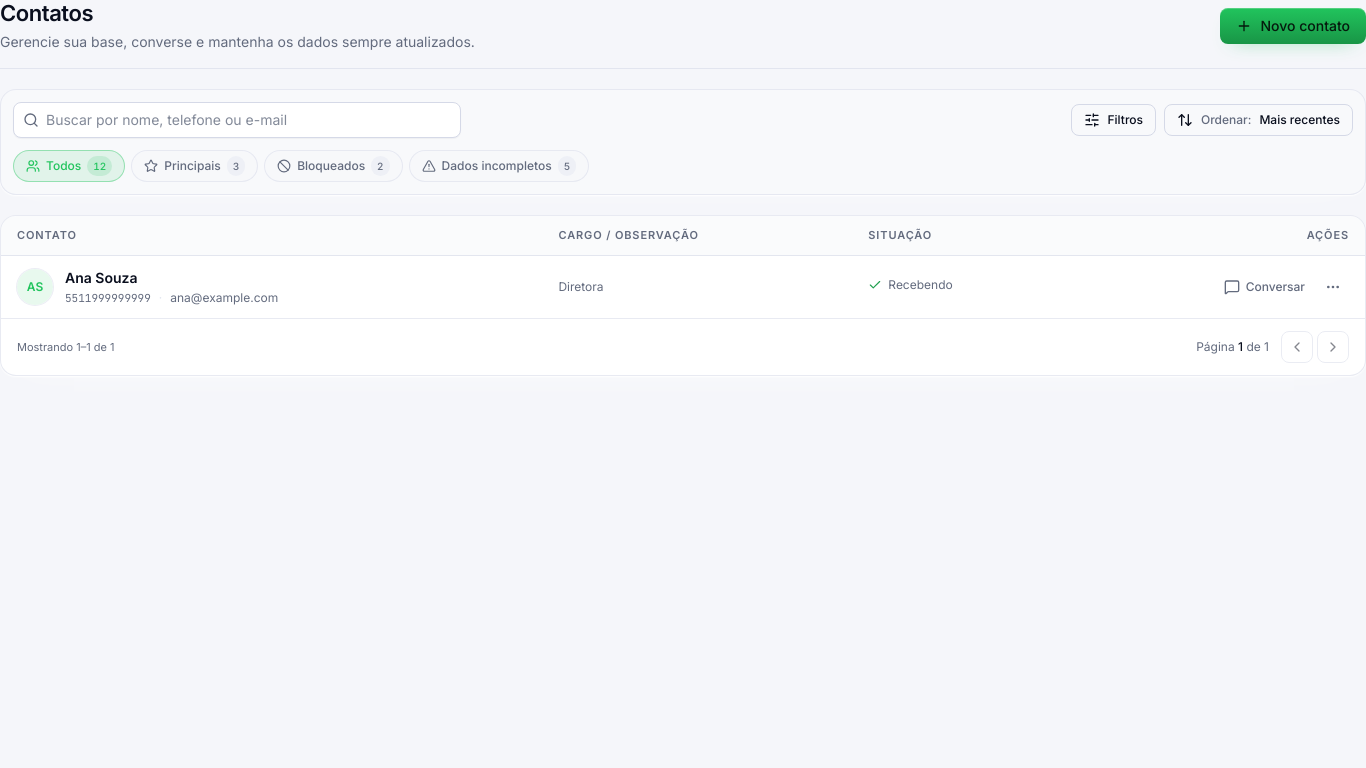
Scenario: ContactListPage details panel › opens the contact details when the row is clicked
Click the text "Ana Souza": (101, 278) [65,268,138,288]
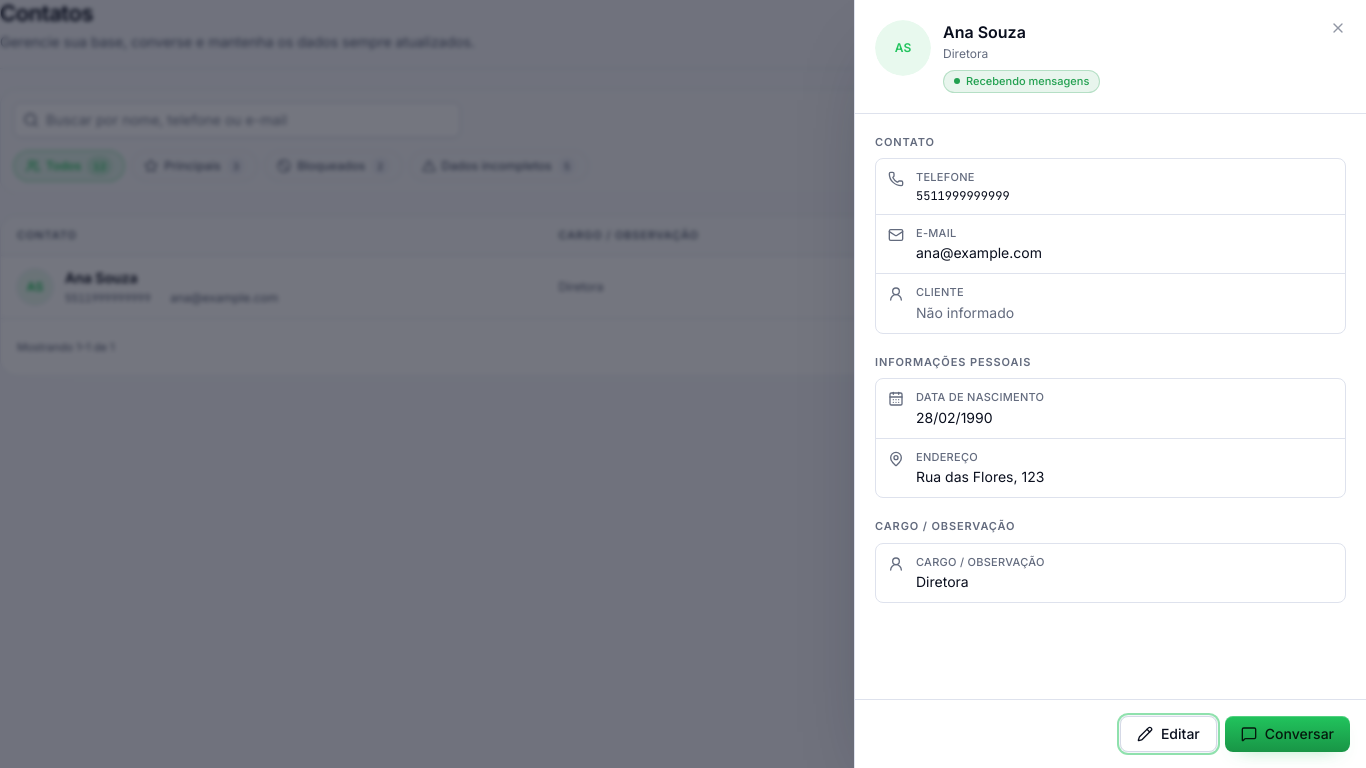
Expected: the heading "Informações pessoais" is shown, [875,354,1031,368]
Expected: the text "Rua das Flores, 123" is shown, [916,468,1044,485]
